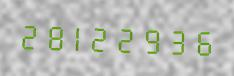eight: (42, 17, 66, 54)
nine: (142, 20, 166, 57)
one: (67, 18, 91, 55)
six: (192, 22, 216, 59)
three: (167, 21, 191, 58)
two: (17, 16, 41, 53), (92, 19, 116, 55), (117, 20, 141, 56)
